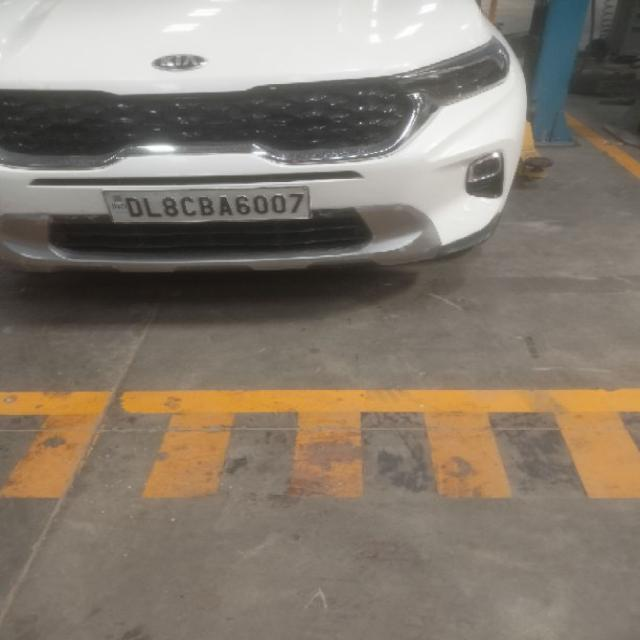license_plate: (100, 184, 313, 223)
